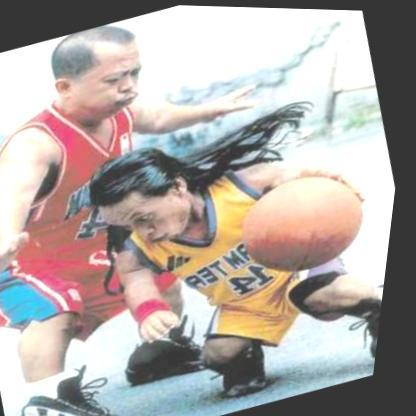basketball: (232, 154, 389, 284)
